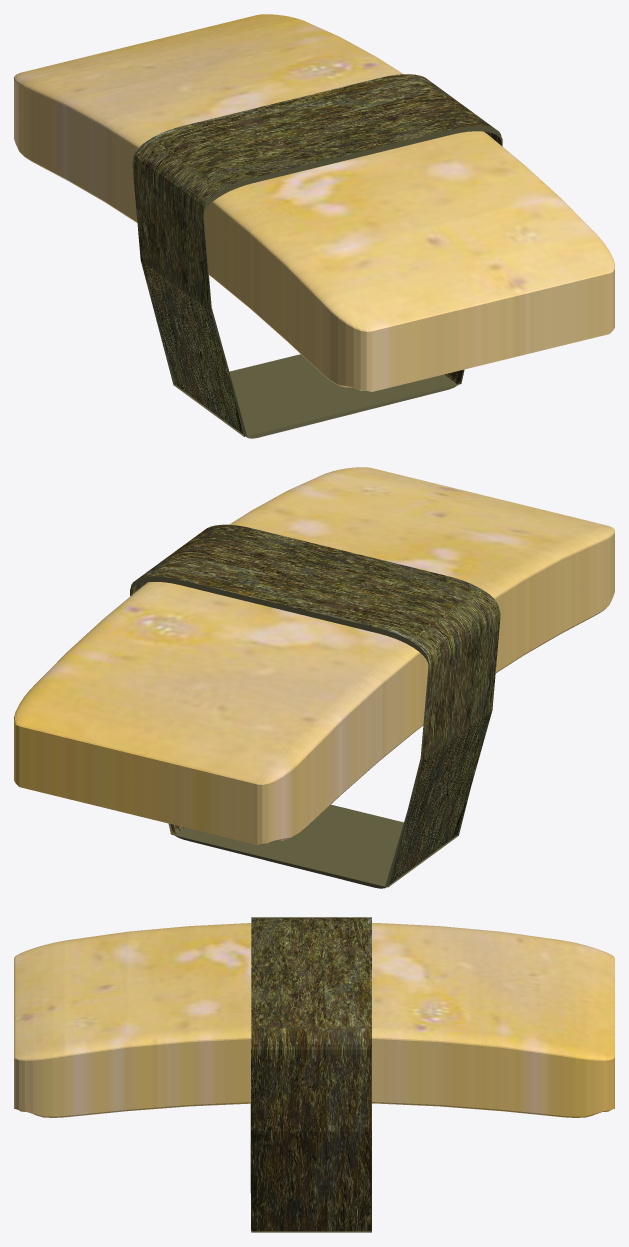
File: eggandseaweed.fbx
The picture shows the model from 3 angles, top to bottom: view 1: azimuth 30°, elevation 25°; view 2: azimuth 150°, elevation 25°; view 3: azimuth 270°, elevation 25°; orthographic projection. The views are drawn at different scales.
Parts seen in each view (by area): view 1: Cube.006, Cube.007; view 2: Cube.006, Cube.007; view 3: Cube.006, Cube.007.
Part boxes in pixels (x1=…): Cube.006: x1=14, y1=14, x2=614, y2=391; Cube.007: x1=132, y1=74, x2=502, y2=438; Cube.006: x1=14, y1=467, x2=614, y2=844; Cube.007: x1=130, y1=524, x2=500, y2=888; Cube.006: x1=14, y1=923, x2=614, y2=1117; Cube.007: x1=250, y1=917, x2=371, y2=1232.
Bounding box in the file's own units: 52.54 × 43.74 × 107.
2 materials, 2 textured.
